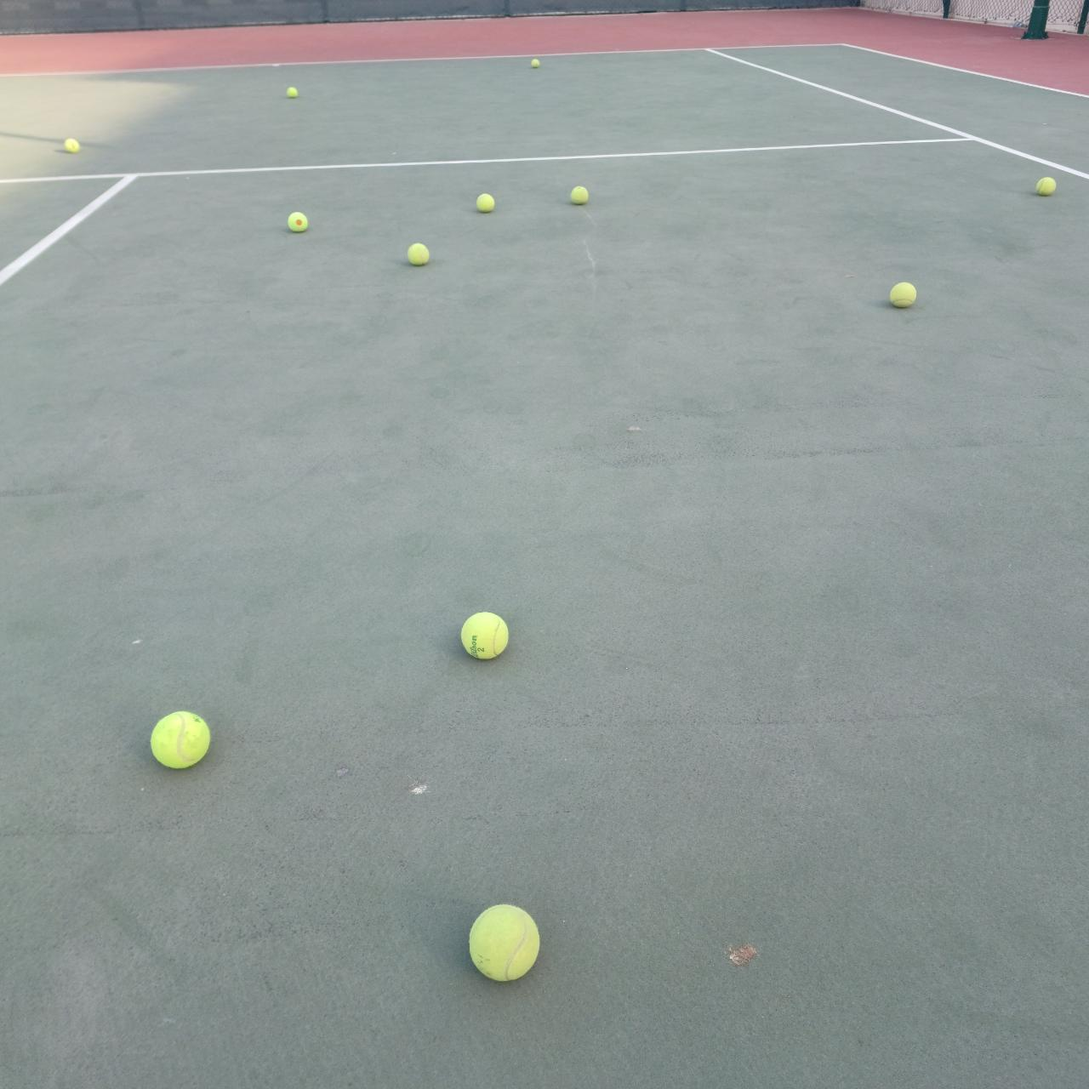tennis-ball: (466, 901, 541, 983), (148, 708, 211, 770), (459, 609, 510, 660), (887, 279, 917, 308), (406, 241, 430, 265), (285, 209, 309, 232), (474, 191, 495, 212), (568, 184, 589, 204), (1036, 176, 1056, 196), (63, 136, 79, 152), (286, 87, 298, 98), (531, 59, 540, 68)
